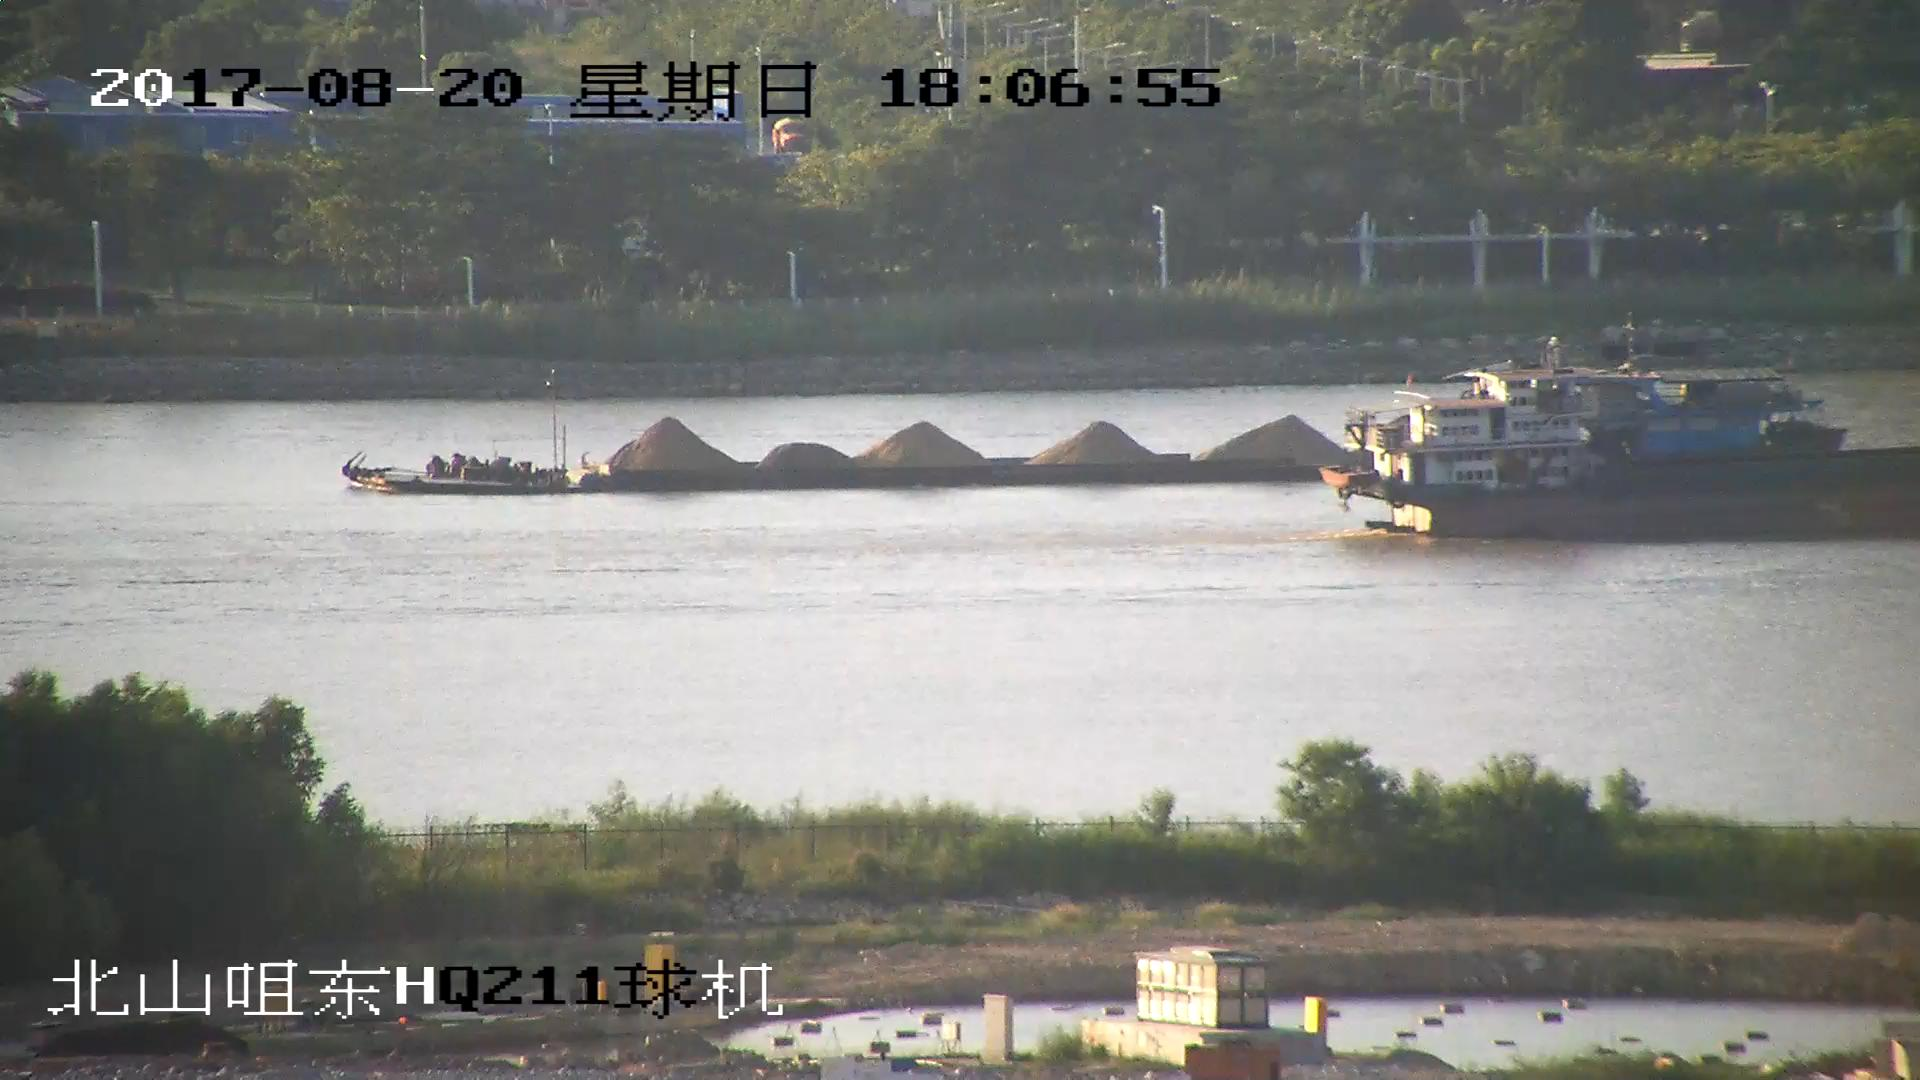bulk cargo carrier: (1323, 371, 1920, 544)
ore carrier: (342, 342, 1838, 495)
